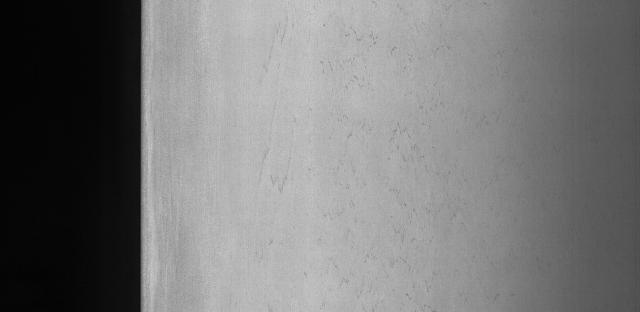silk_spot: (247, 25, 517, 294)
